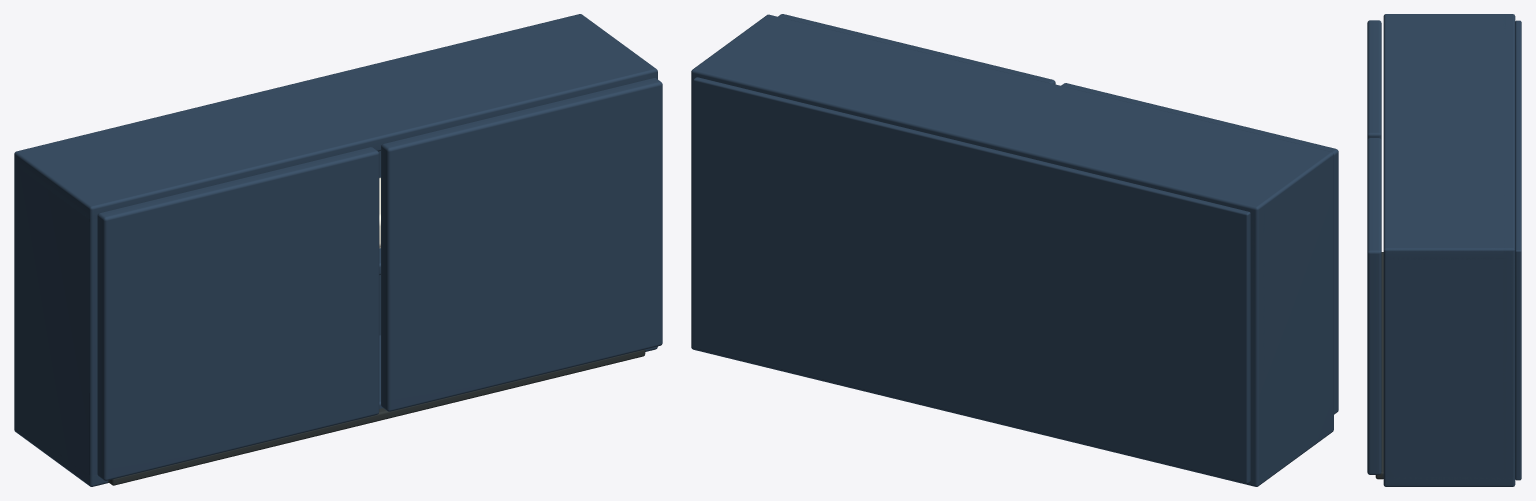
File: kitchenModernWallCabinetNavy.glb
The picture shows the model from 3 angles, left to right: view 1: azimuth 30°, elevation 25°; view 2: azimuth 150°, elevation 25°; view 3: azimuth 270°, elevation 25°; orthographic projection. The views are drawn at different scales.
Visible parts, largest first — view 1: Flat handleless cabinet door, Flat handleless cabinet door.001, Storage inner floor.001, Storage inner side, Recessed cabinet finger rail, Storage inner back; view 2: Wall backplate, Storage inner floor.001, Storage inner side, Storage inner back, Flat handleless cabinet door, Flat handleless cabinet door.001; view 3: Storage inner floor.001, Storage inner side.001, Flat handleless cabinet door.001, Wall backplate, Storage inner back, Flat handleless cabinet door, Storage inner floor, Recessed cabinet finger rail.
Part boxes in pixels (x1,y1,x2,y2): Flat handleless cabinet door: [97, 147, 379, 480]; Flat handleless cabinet door.001: [381, 78, 662, 411]; Storage inner floor.001: [15, 14, 656, 219]; Storage inner side: [14, 149, 102, 486]; Recessed cabinet finger rail: [108, 349, 645, 485]; Storage inner back: [14, 14, 581, 335]; Wall backplate: [693, 77, 1250, 483]; Storage inner floor.001: [692, 14, 1332, 219]; Storage inner side: [1246, 152, 1333, 486]; Storage inner back: [691, 71, 1264, 486]; Flat handleless cabinet door: [1061, 83, 1338, 414]; Flat handleless cabinet door.001: [778, 14, 1055, 84]; Storage inner floor.001: [1383, 14, 1515, 259]; Storage inner side.001: [1383, 246, 1515, 486]; Flat handleless cabinet door.001: [1367, 138, 1381, 474]; Wall backplate: [1515, 20, 1521, 480]; Storage inner back: [1503, 14, 1515, 485]; Flat handleless cabinet door: [1367, 20, 1381, 140]; Storage inner floor: [1383, 477, 1514, 485]; Recessed cabinet finger rail: [1375, 252, 1383, 479].
Bounding box in the file's own units: 1.78 × 0.84 × 0.4915.
